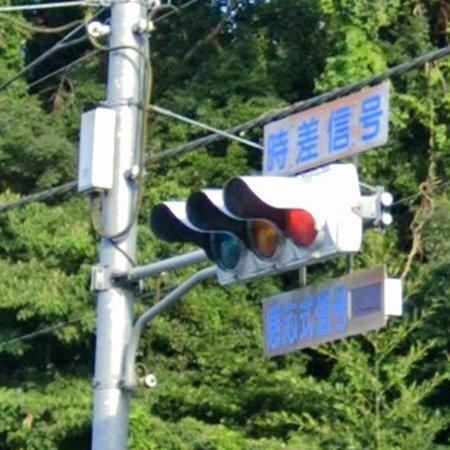traffic lights: (150, 161, 364, 287)
